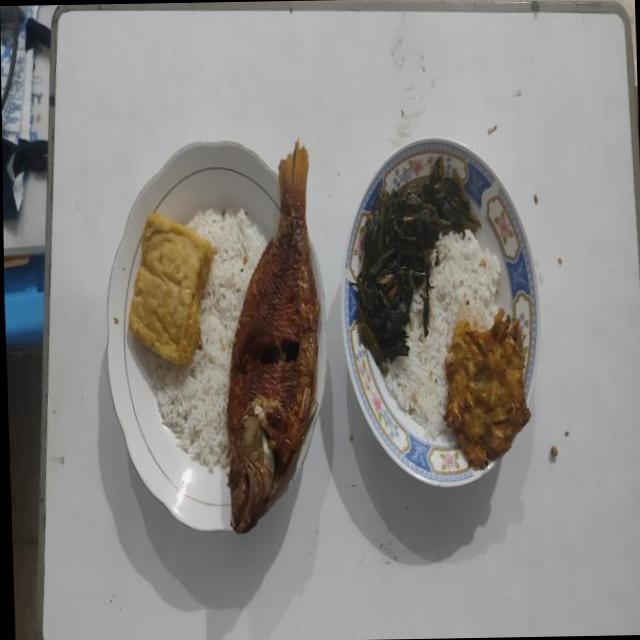ikan_mujair: (226, 141, 320, 532)
nasi_putih: (150, 208, 266, 472), (386, 229, 499, 437)
tahu_goreng: (129, 212, 214, 364)
tumis_kangkung: (354, 154, 480, 372)
